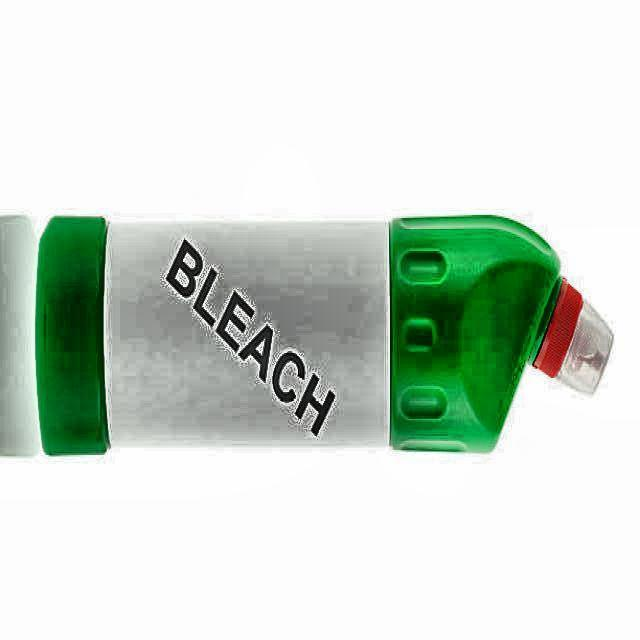plastic: (36, 218, 612, 454)
